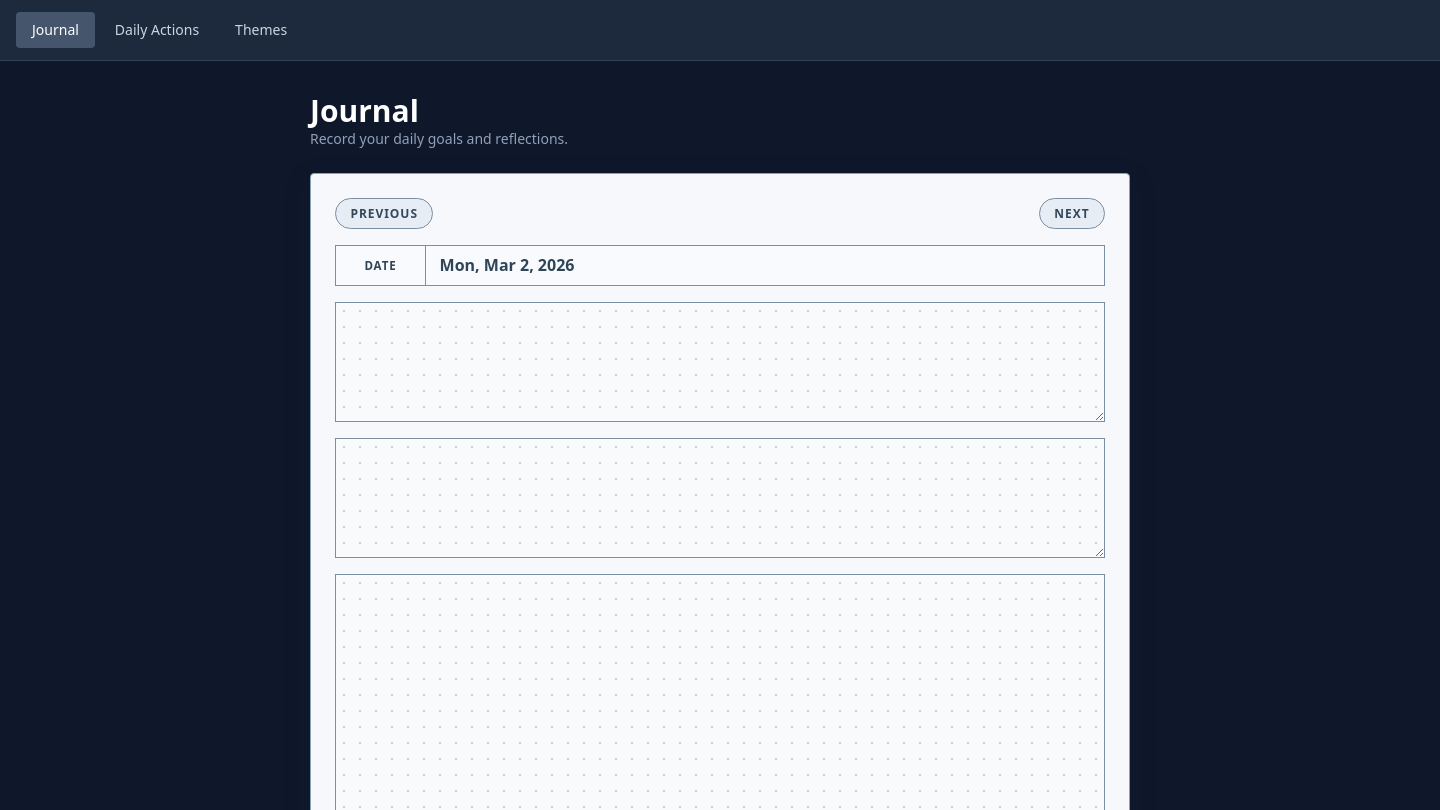
Test: App › switches back to Journal view when Journal tab is clicked
Click the tab with aria-label "Switch to Daily Actions". click: (157, 30)
box: [99,12,215,48]
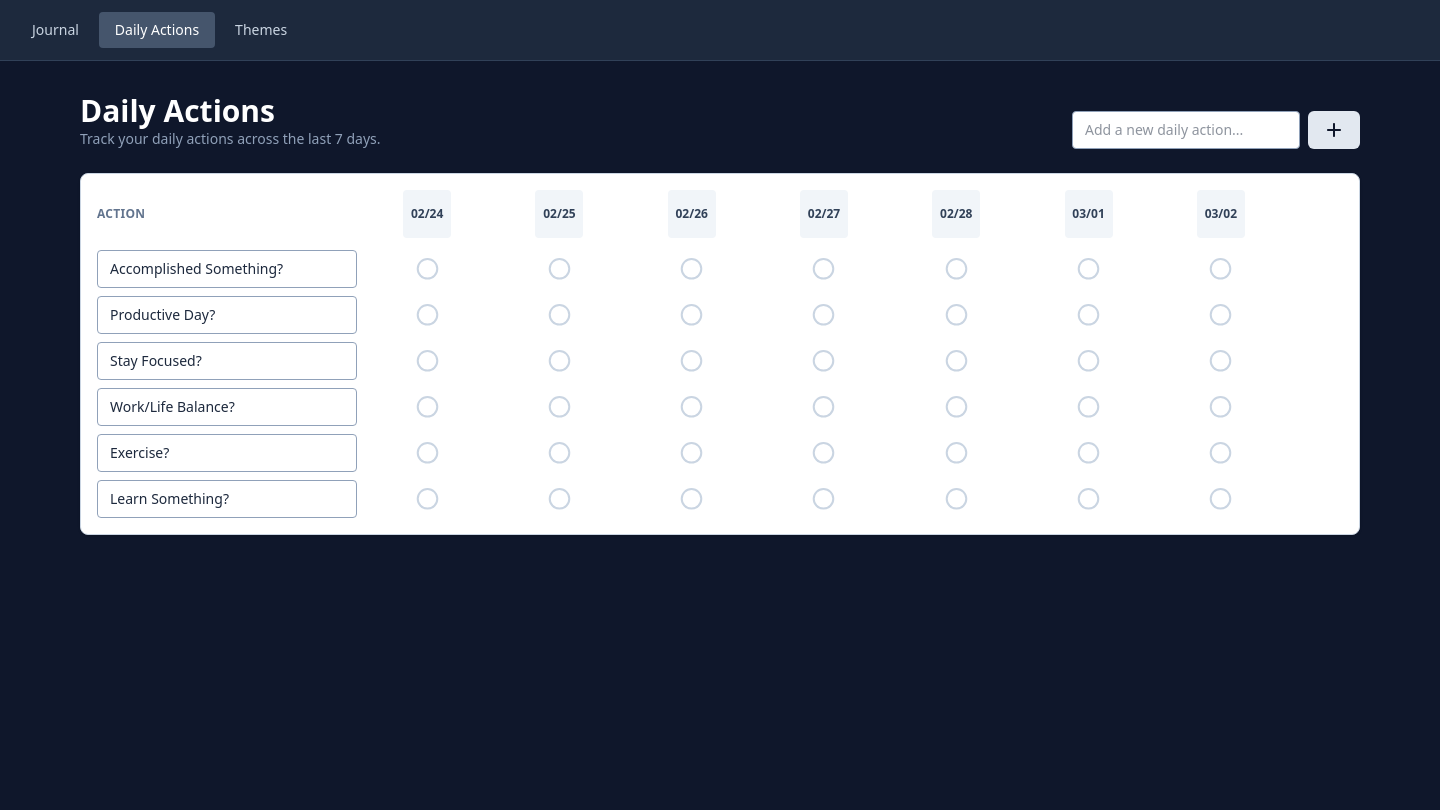
Click the tab with aria-label "Switch to Journal". click: (55, 30)
box: [16,12,95,48]
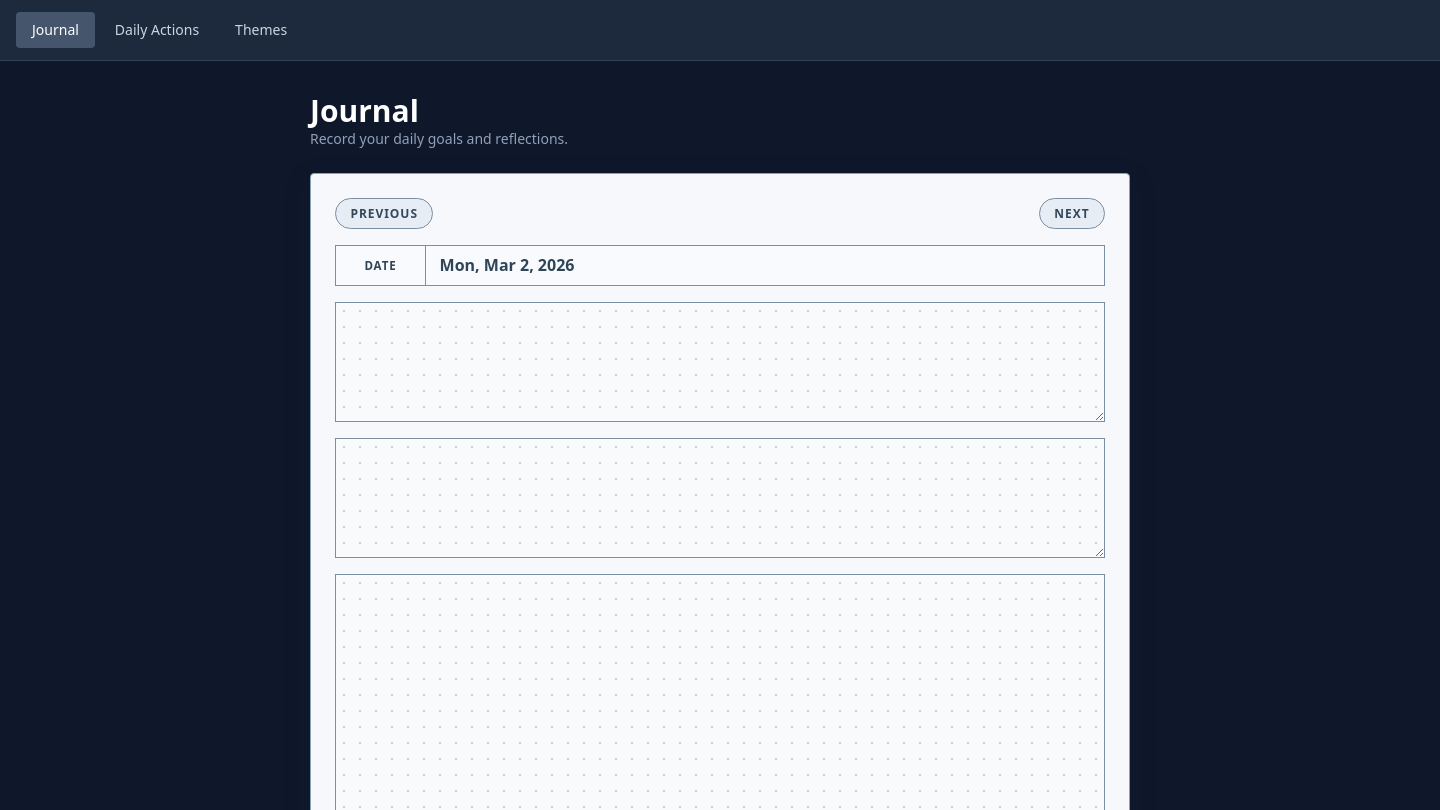
Expected: the button "Previous" is shown, [335,198,433,229]
Expected: the text box named "Goal space one" is shown, [335,302,1105,422]
